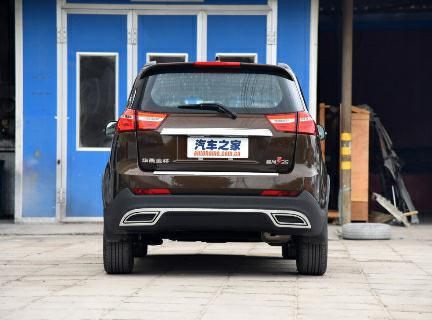金杯-智尚S35: (95, 54, 343, 280)
